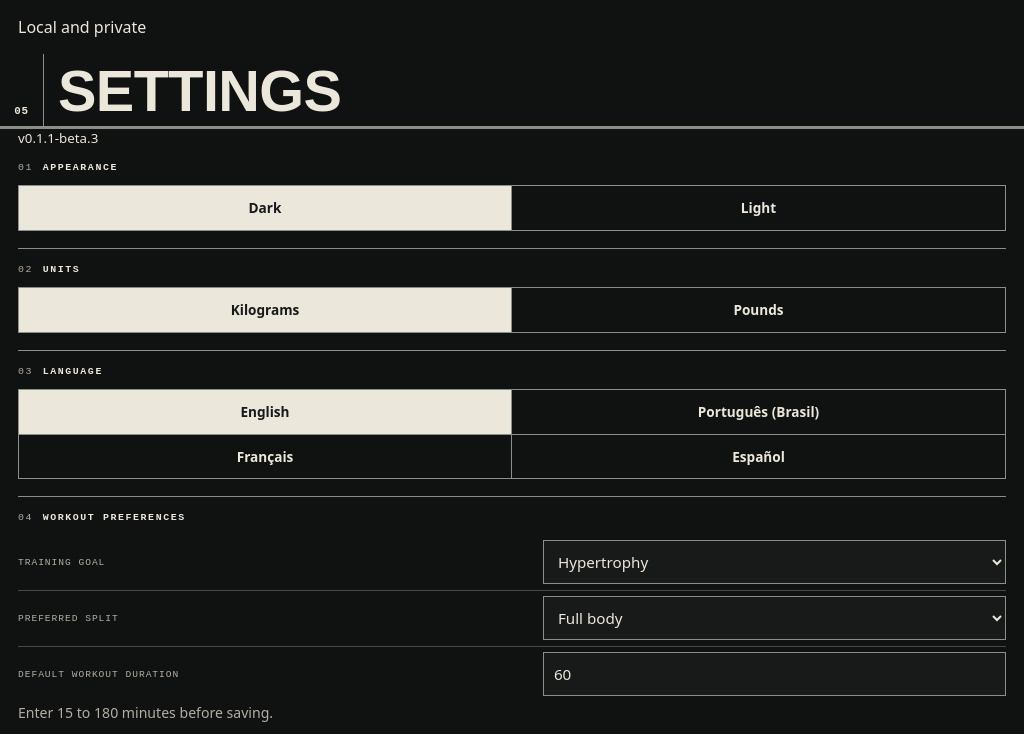
it: SettingsPage appearance › keeps the saved appearance and reports a failed write
Step 1. Click the button "Light" → (758, 208), box [512,186,1005,230]
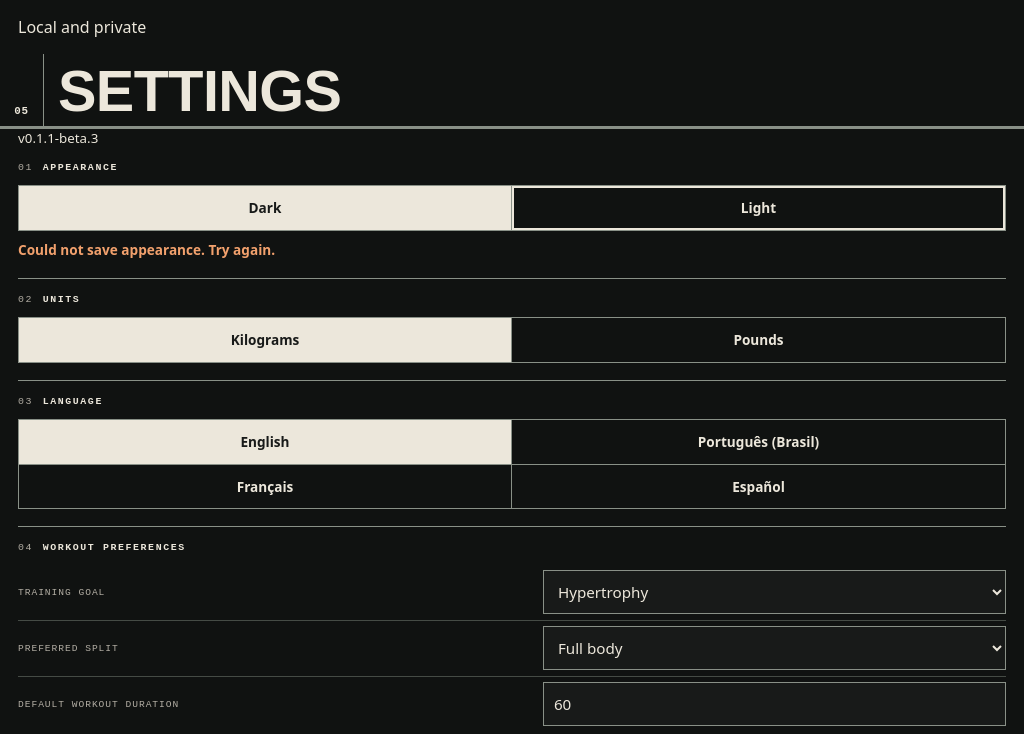
Result: the message reads "Could not save appearance. Try again." at [18,240,275,259]
Step 2. Click the button "Light" → (758, 208), box [512,186,1005,230]
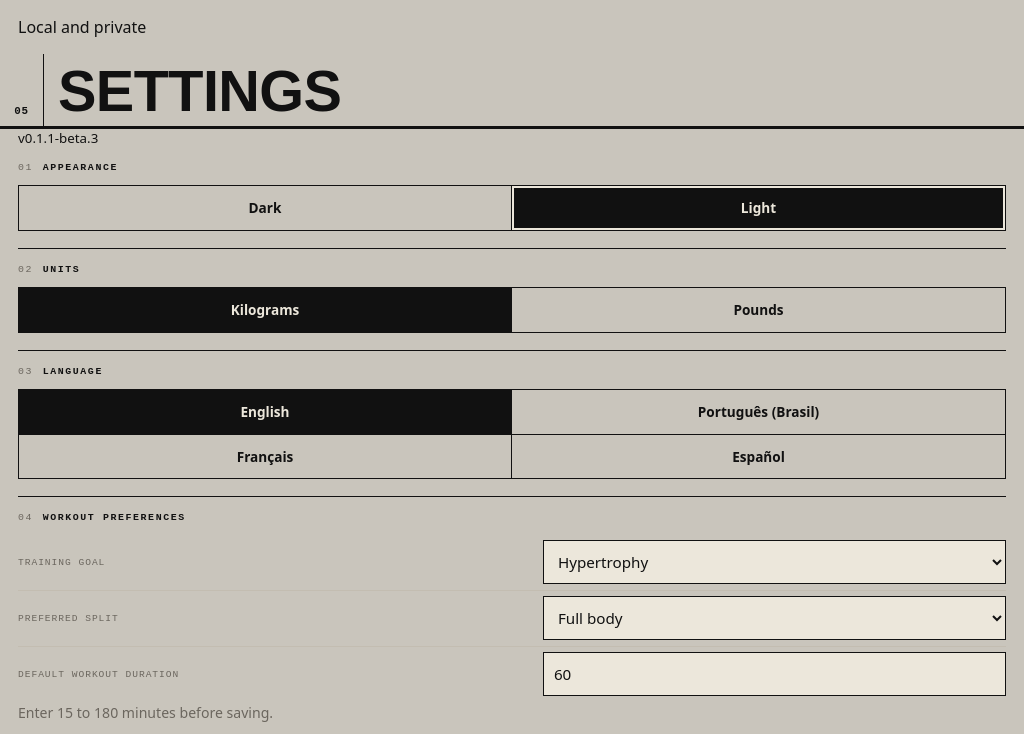
Result: the message "Could not save appearance. Try again." is gone
